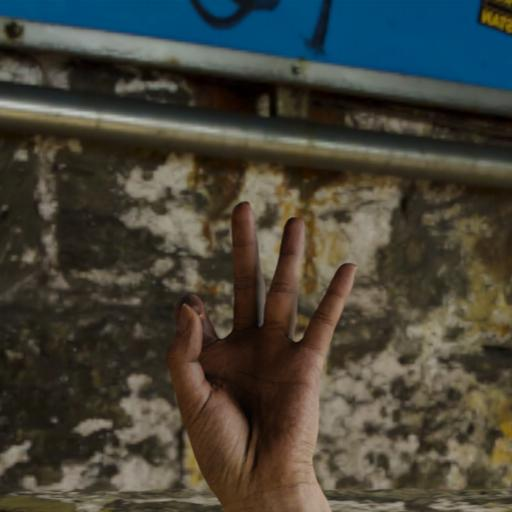F: (166, 201, 362, 495)
